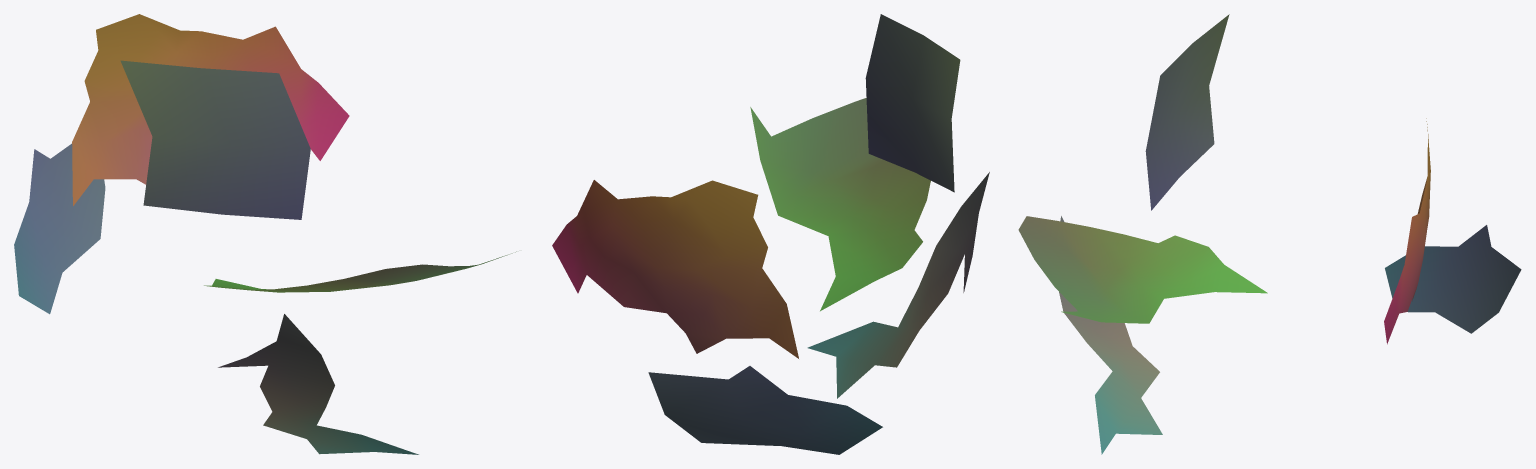
Rendered from space-nebulae-nebula_v20.fbx.
The picture shows the model from 3 angles, left to right: view 1: azimuth 30°, elevation 25°; view 2: azimuth 150°, elevation 25°; view 3: azimuth 270°, elevation 25°; orthographic projection. The views are drawn at different scales.
Parts seen in each view (by area): view 1: Nebula_v20; view 2: Nebula_v20; view 3: Nebula_v20.
Part boxes in pixels (x1,y1,x2,y2): Nebula_v20: (14, 14, 516, 454); Nebula_v20: (552, 14, 989, 454); Nebula_v20: (1018, 14, 1521, 454).
Size of the model in its own units: 0.3301 by 0.3868 by 0.5.
